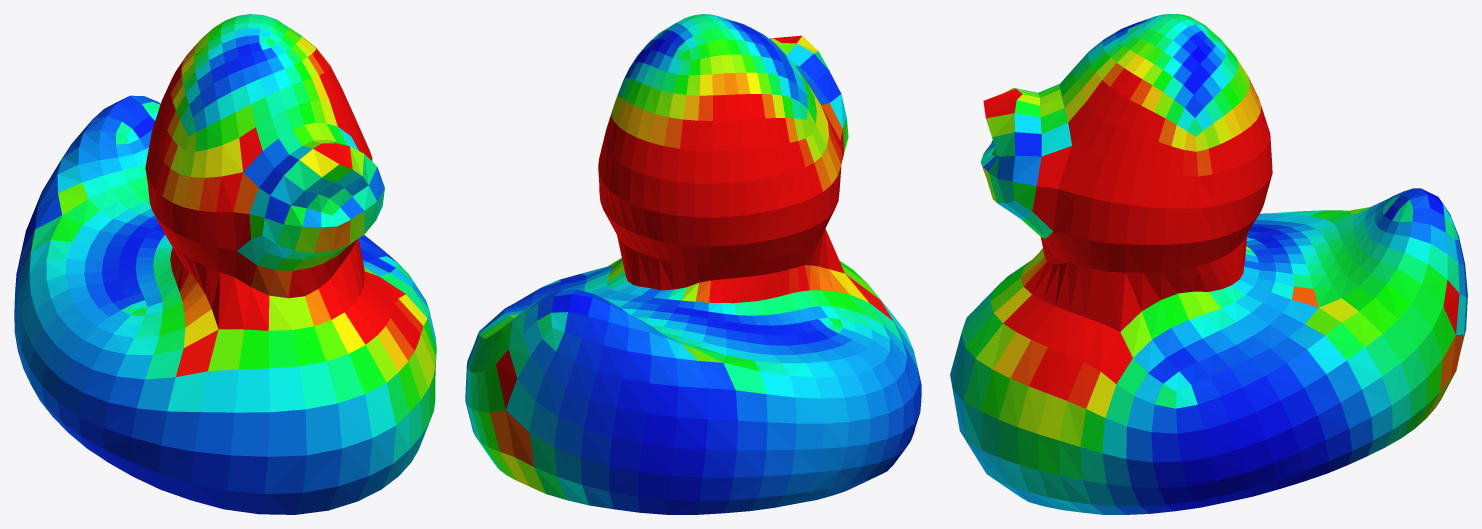
File: duck_quad4_no_opt_quality.obj
3 renders of one model, left to right at view 1: azimuth 30°, elevation 25°; view 2: azimuth 150°, elevation 25°; view 3: azimuth 270°, elevation 25°, orthographic. The views are drawn at different scales.
Size of the model in its own units: 70.38 by 79.36 by 82.66.
